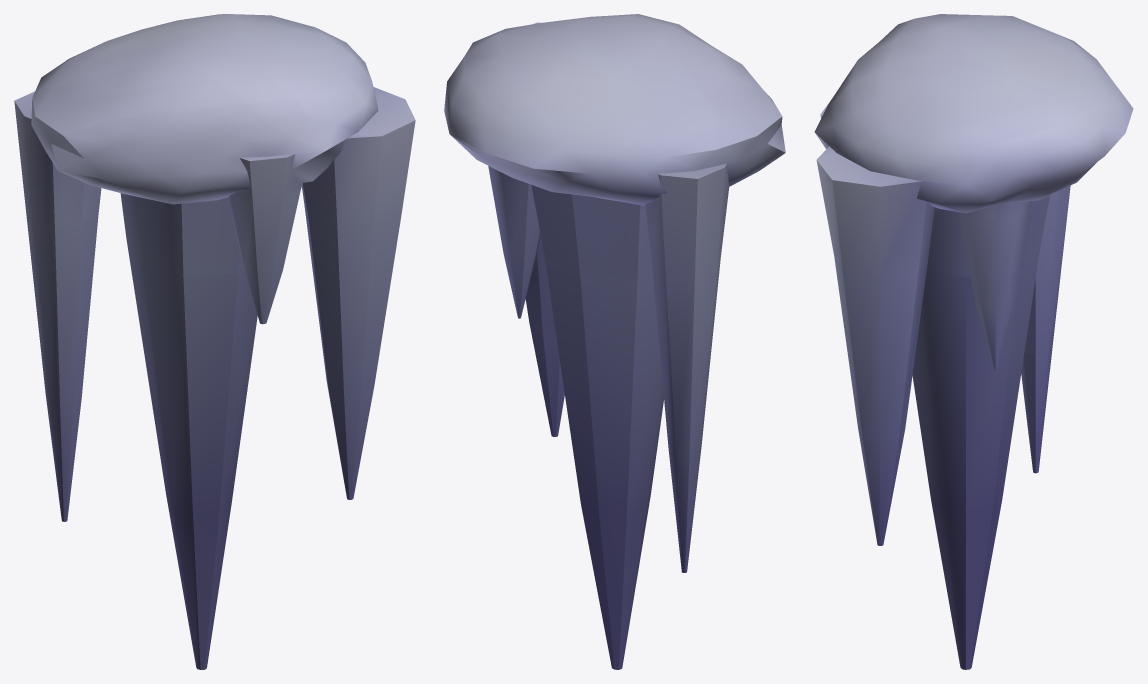
File: verdant_cave_stalactite_b.glb
3 renders of one model, left to right at view 1: azimuth 30°, elevation 25°; view 2: azimuth 150°, elevation 25°; view 3: azimuth 270°, elevation 25°, orthographic.
Parts seen in each view (by area): view 1: verdant_cave_stalactite_b; view 2: verdant_cave_stalactite_b; view 3: verdant_cave_stalactite_b.
Boxes of the visible parts, x1,y1,x2,y2 form: verdant_cave_stalactite_b: (14,14,415,669); verdant_cave_stalactite_b: (444,14,785,669); verdant_cave_stalactite_b: (814,14,1133,669).
Size of the model in its own units: 1.82 by 3.44 by 1.59.
